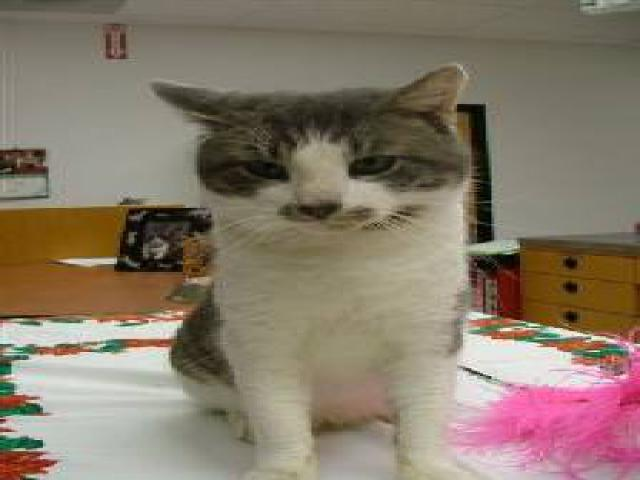cat: (150, 52, 483, 476)
